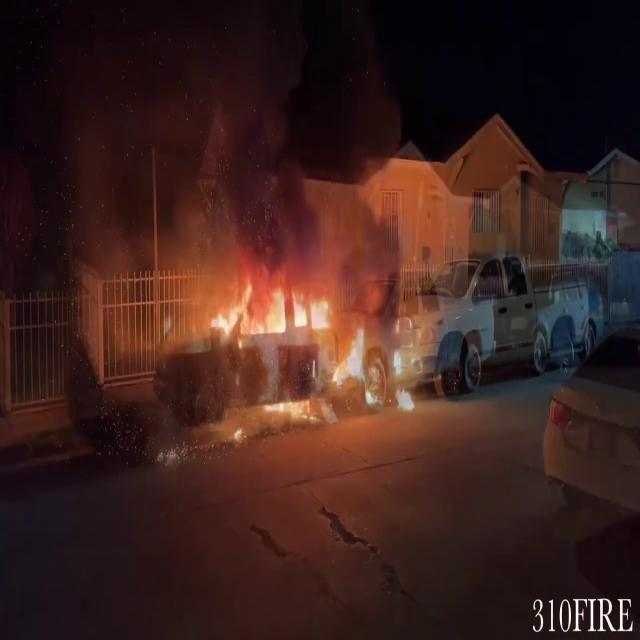Fire: (210, 280, 420, 414)
Smoke: (59, 0, 397, 321)
